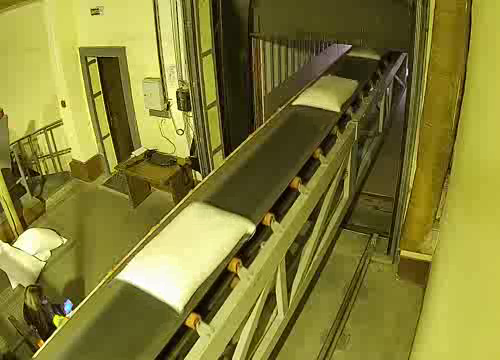bag: (109, 198, 264, 317), (285, 70, 362, 115), (343, 43, 390, 64)
